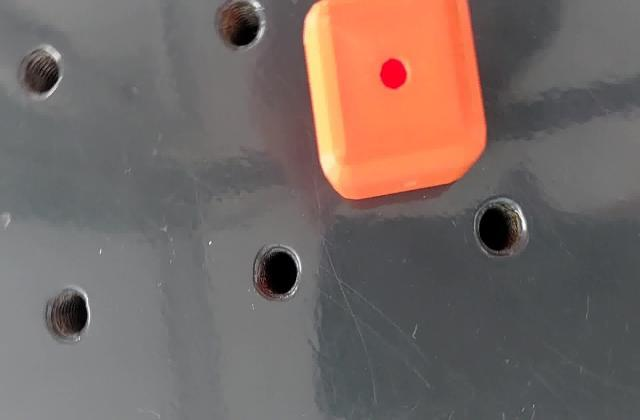cube: (292, 1, 490, 202)
